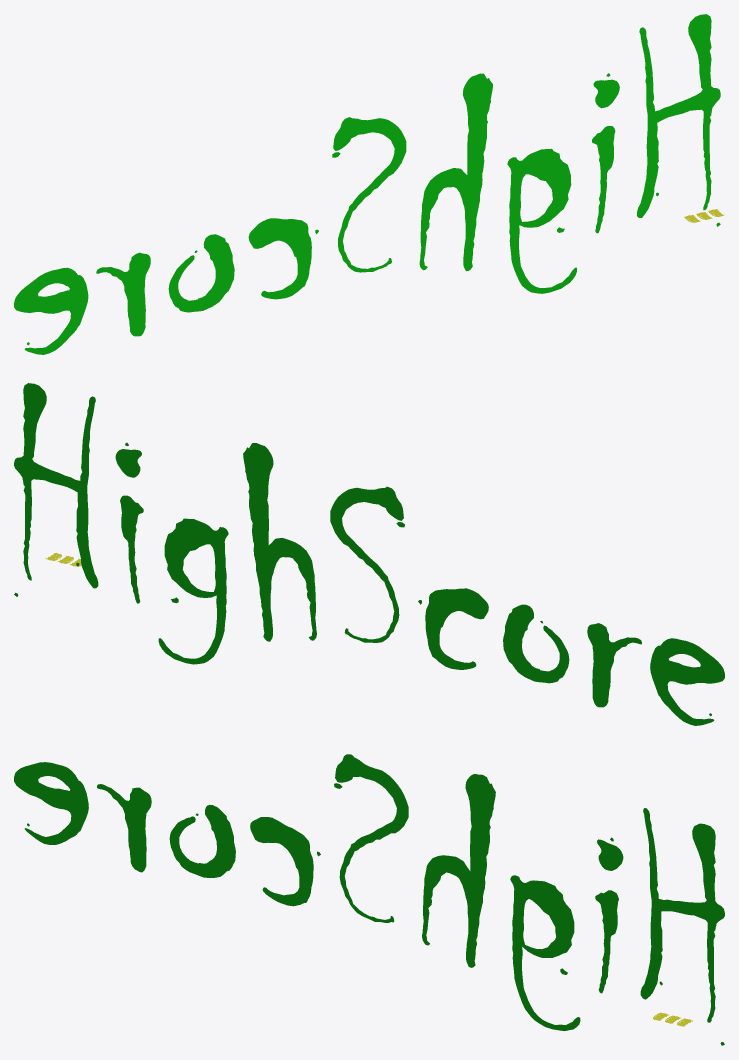
Rendered from highScoreTextButtonText.obj.
3 views of the same model, one above another, from view 1: azimuth 30°, elevation 25°; view 2: azimuth 150°, elevation 25°; view 3: azimuth 330°, elevation 25° (orthographic).
Visible parts, largest first — view 1: highScoreTextButtonText; view 2: highScoreTextButtonText; view 3: highScoreTextButtonText.
Boxes of the visible parts, x1,y1,x2,y2 form: highScoreTextButtonText: (14,14,720,354); highScoreTextButtonText: (14,383,724,725); highScoreTextButtonText: (14,754,724,1045).
Bounding box in the file's own units: 2.36 × 0.7749 × 0.1315.
